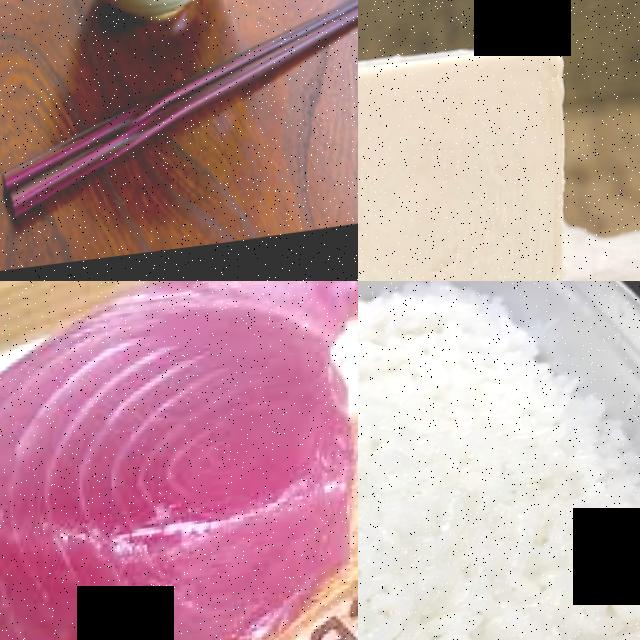tofu: (358, 38, 572, 281)
tuna: (0, 298, 350, 640)
white rice: (358, 283, 516, 548), (358, 495, 640, 640)
